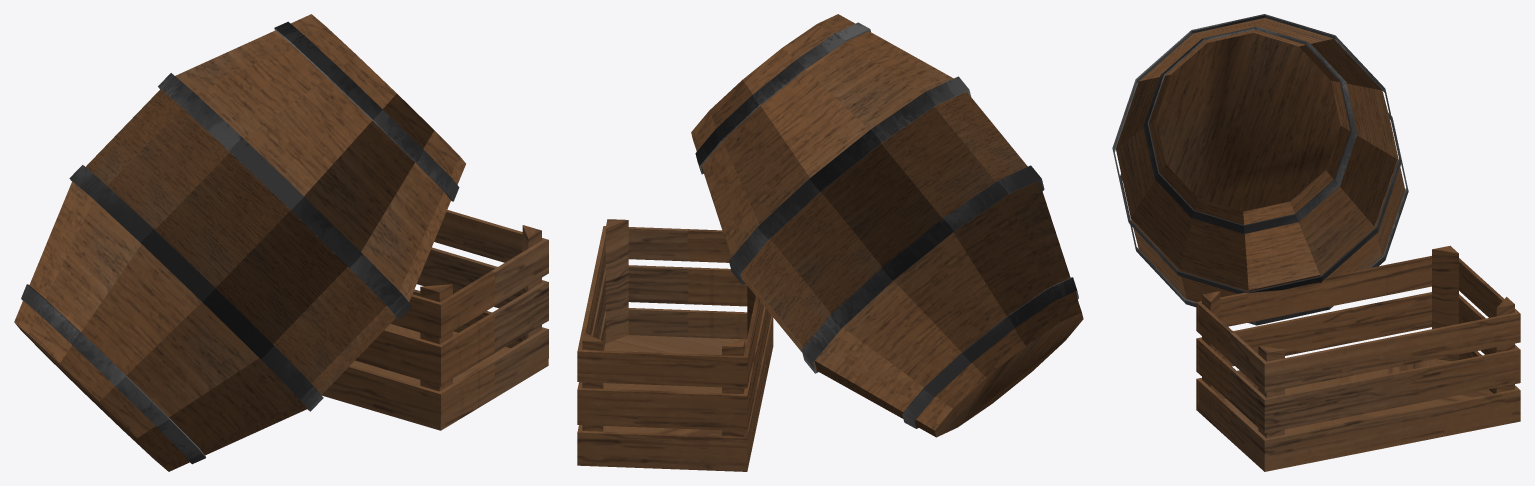
The picture shows the model from 3 angles, left to right: view 1: azimuth 30°, elevation 25°; view 2: azimuth 150°, elevation 25°; view 3: azimuth 270°, elevation 25°; orthographic projection. The views are drawn at different scales.
Visible parts, largest first — view 1: box; view 2: box; view 3: box.
Part boxes in pixels (box(x1,y1,x2,y2)): box: box(14, 14, 548, 471); box: box(577, 14, 1083, 471); box: box(1112, 14, 1520, 471).
Bounding box in the file's own units: 59.03 × 44.04 × 47.48.
Materials: 2 (2 with a texture image).
